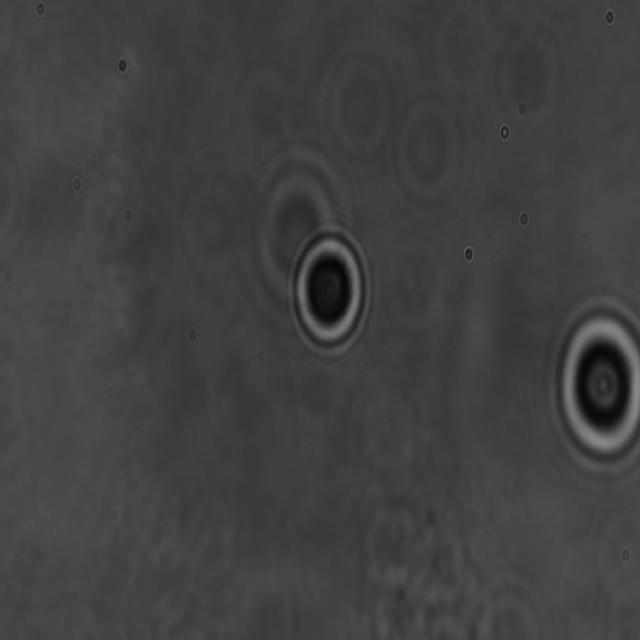DCELL: (281, 220, 379, 362)
